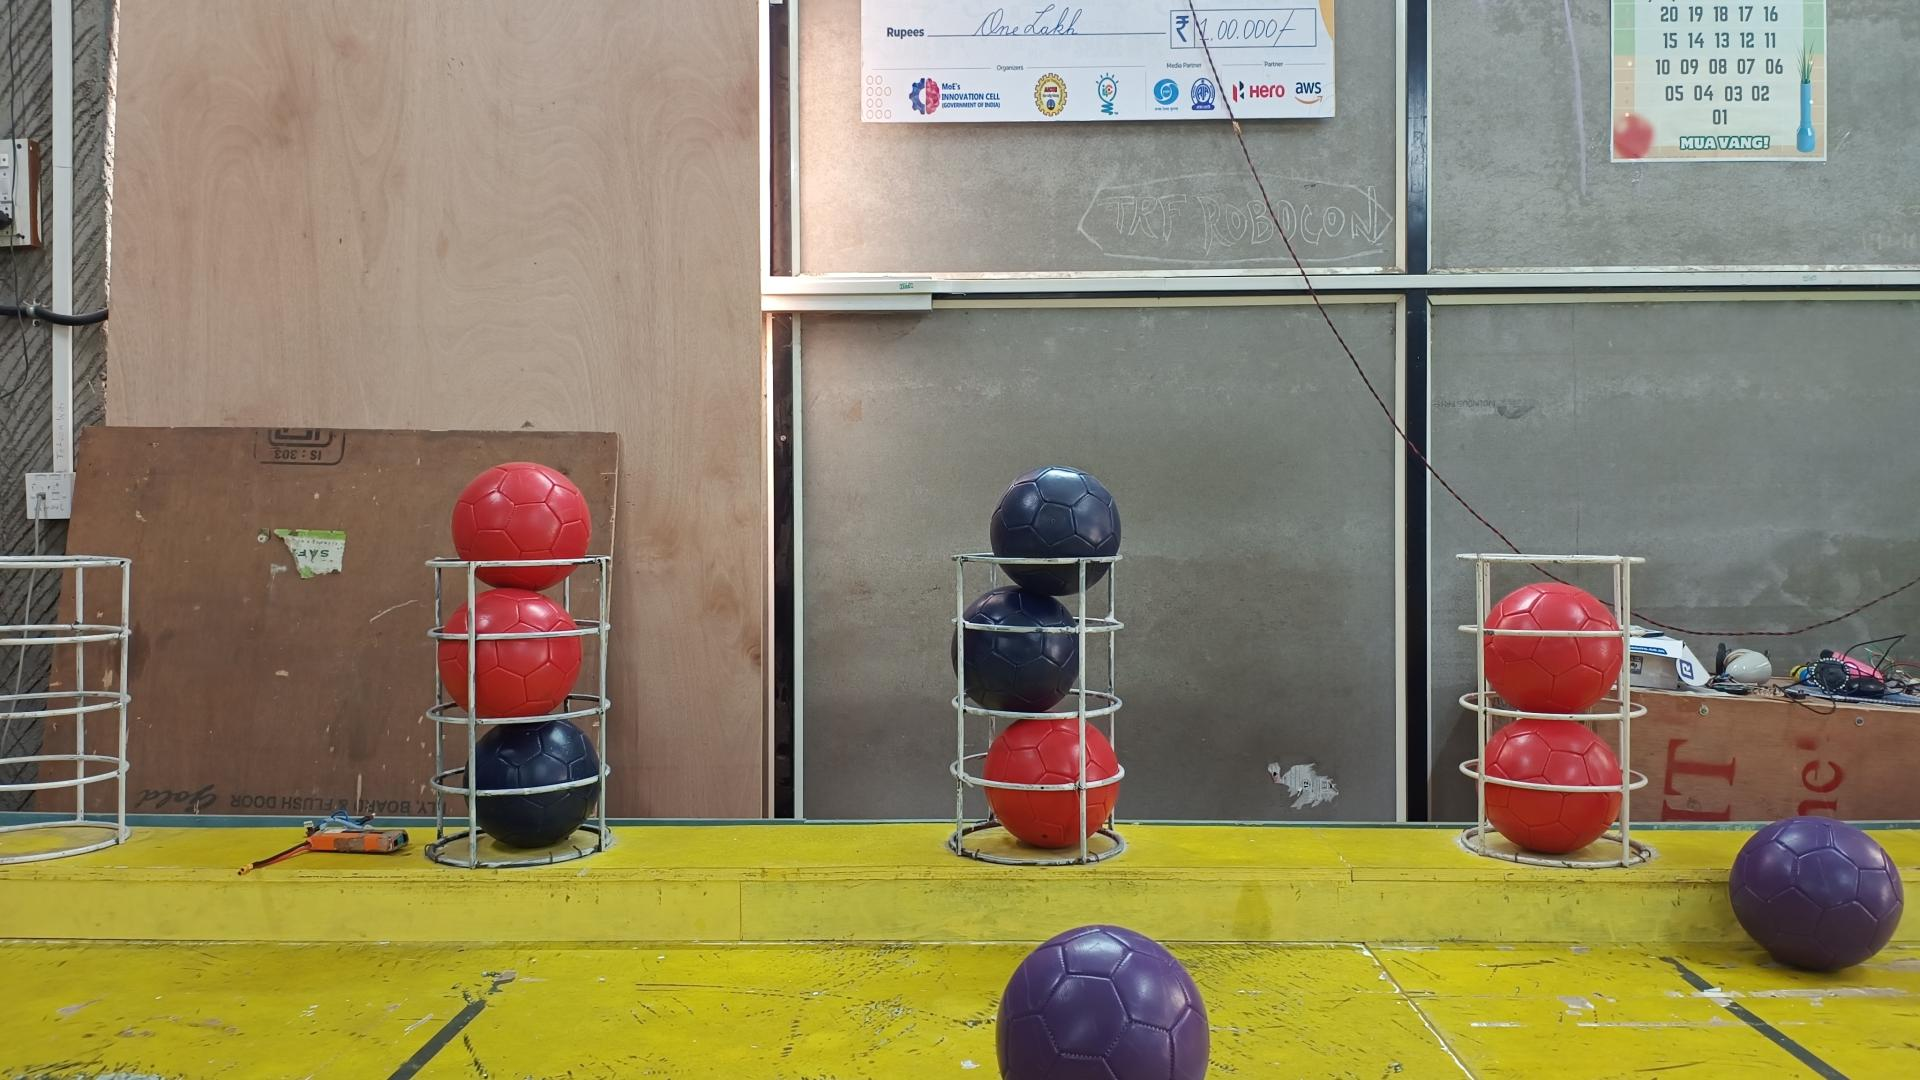dhoka: (462, 720, 600, 852), (990, 465, 1121, 596), (952, 585, 1080, 712)
laale: (439, 588, 582, 720), (1485, 720, 1623, 855), (450, 462, 592, 592), (1485, 582, 1623, 712), (982, 720, 1121, 848)
